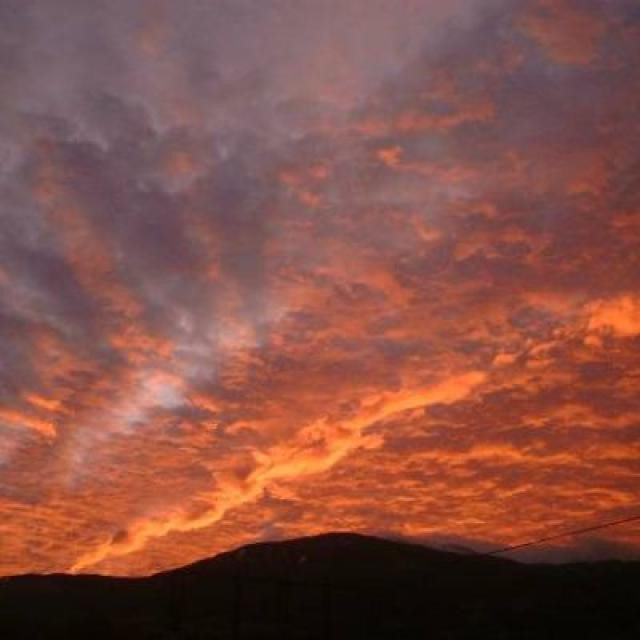Ac: (4, 19, 640, 521)
